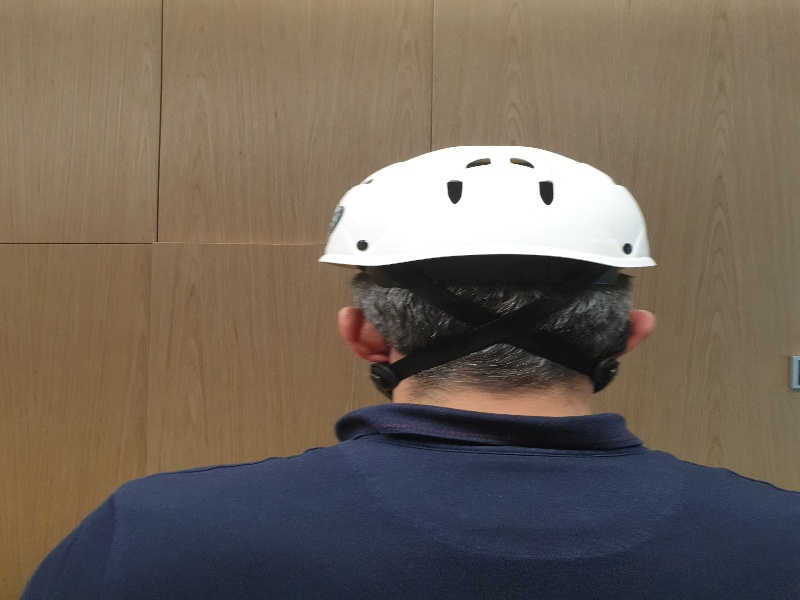Baret: (317, 144, 658, 272)
